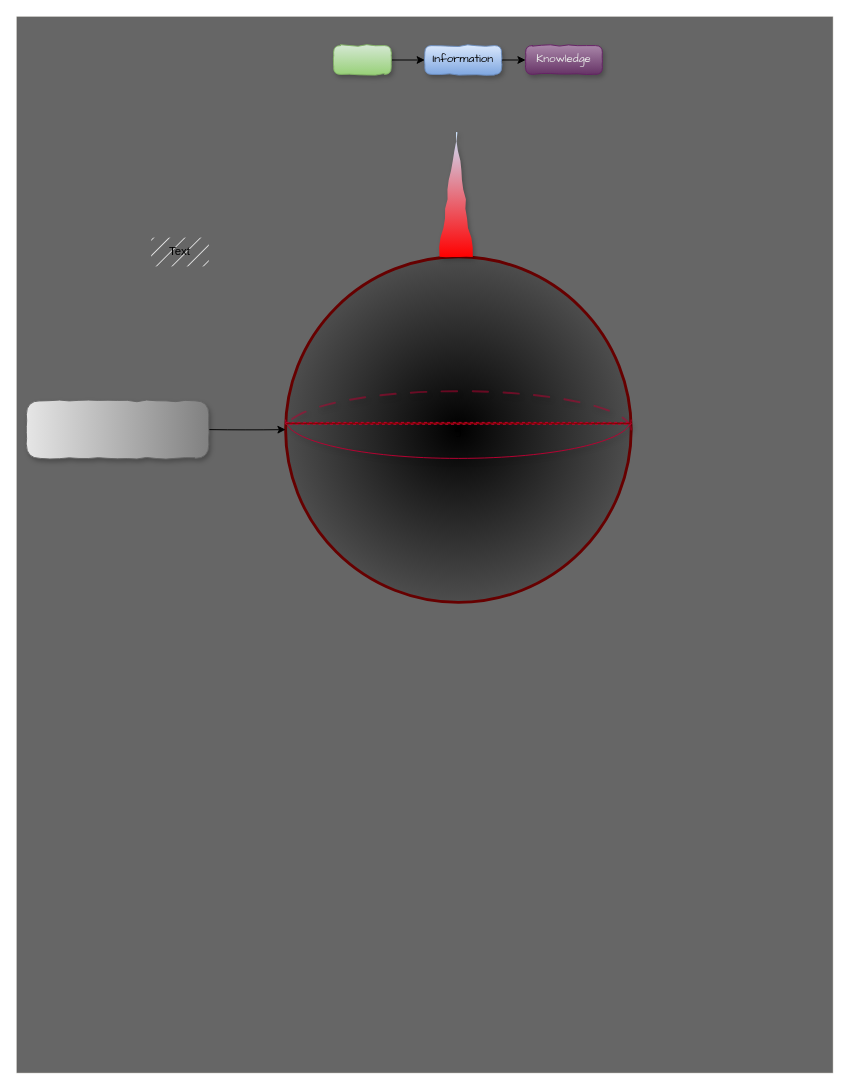
Some shapes in this 850 by 1090 pixel diagram are drawn without their labels. Each missing label, with the centre of its shape:
D a t a: [118,430]
Signal: [363,61]
